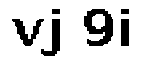9: (81, 7, 115, 49)
i: (118, 6, 133, 48)
j: (41, 6, 66, 60)
v: (7, 13, 44, 49)
